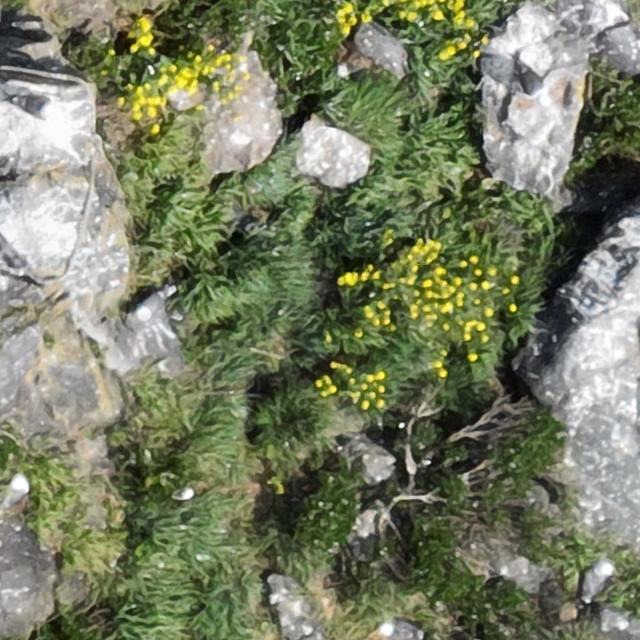umineko: (584, 562, 612, 599), (137, 289, 170, 320), (516, 65, 544, 100), (12, 94, 48, 115), (6, 474, 29, 503), (381, 620, 418, 638)
